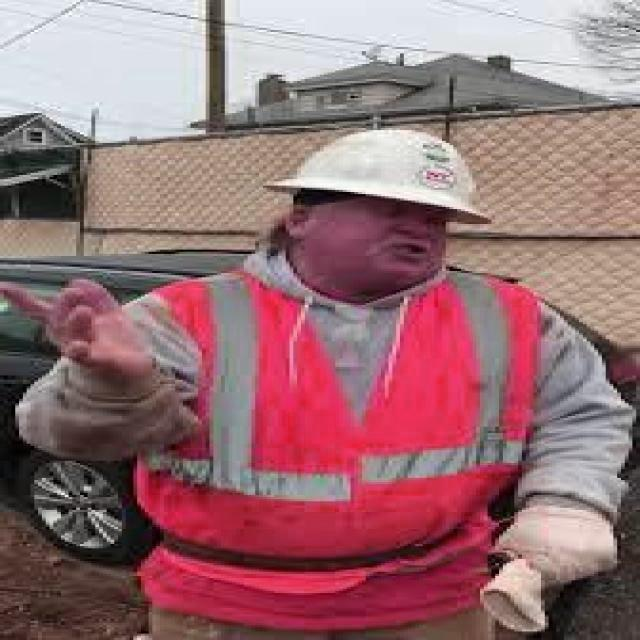vest: (135, 269, 539, 593)
